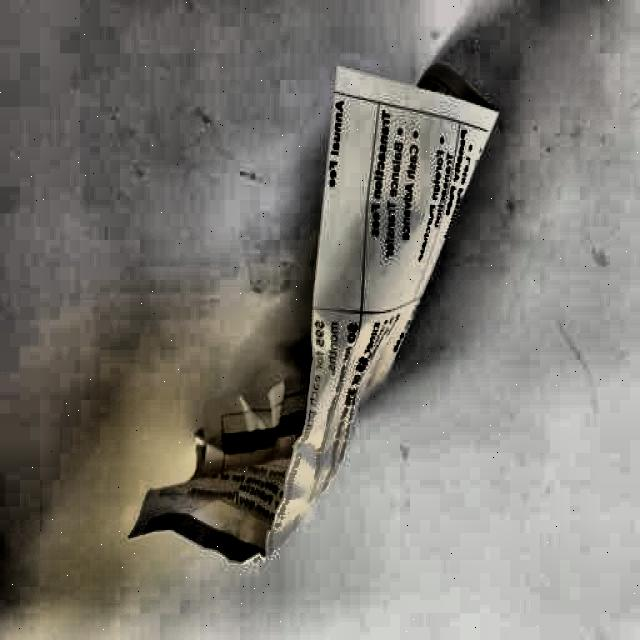paper: (126, 62, 500, 556)
